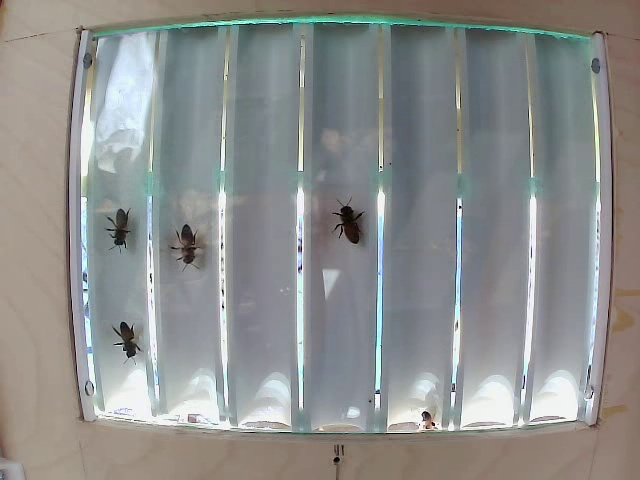bee: (95, 197, 142, 272), (112, 298, 160, 371), (169, 214, 217, 279), (321, 195, 367, 250)
